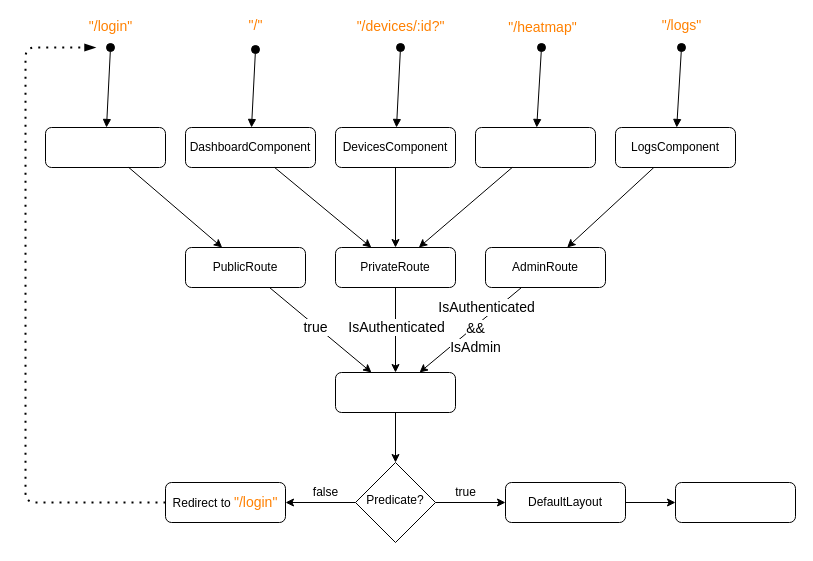
The diagram is 813 pixels wide and 561 high, and some of its shapes have lost their labels. Here are the shapes that lost their labels. From the top down, the box of each, then its label:
(44, 126, 166, 168): AuthComponent
(474, 126, 596, 168): HeatmapComponent
(334, 372, 456, 412): PredicateRoute
(674, 482, 796, 522): Render Component
